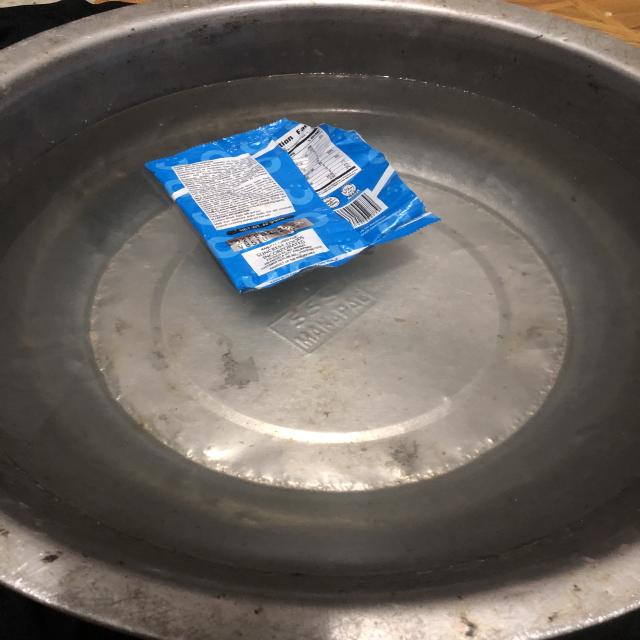Plastic Wrapper: (146, 119, 438, 291)
